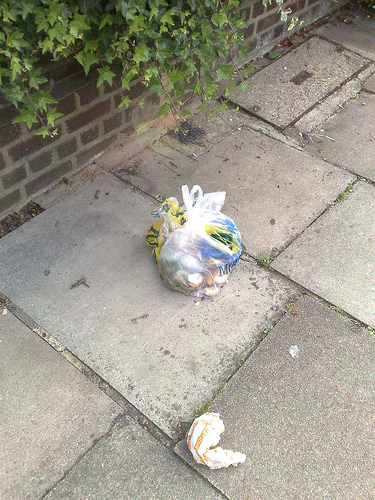litter: (146, 182, 244, 296), (186, 412, 249, 470)
